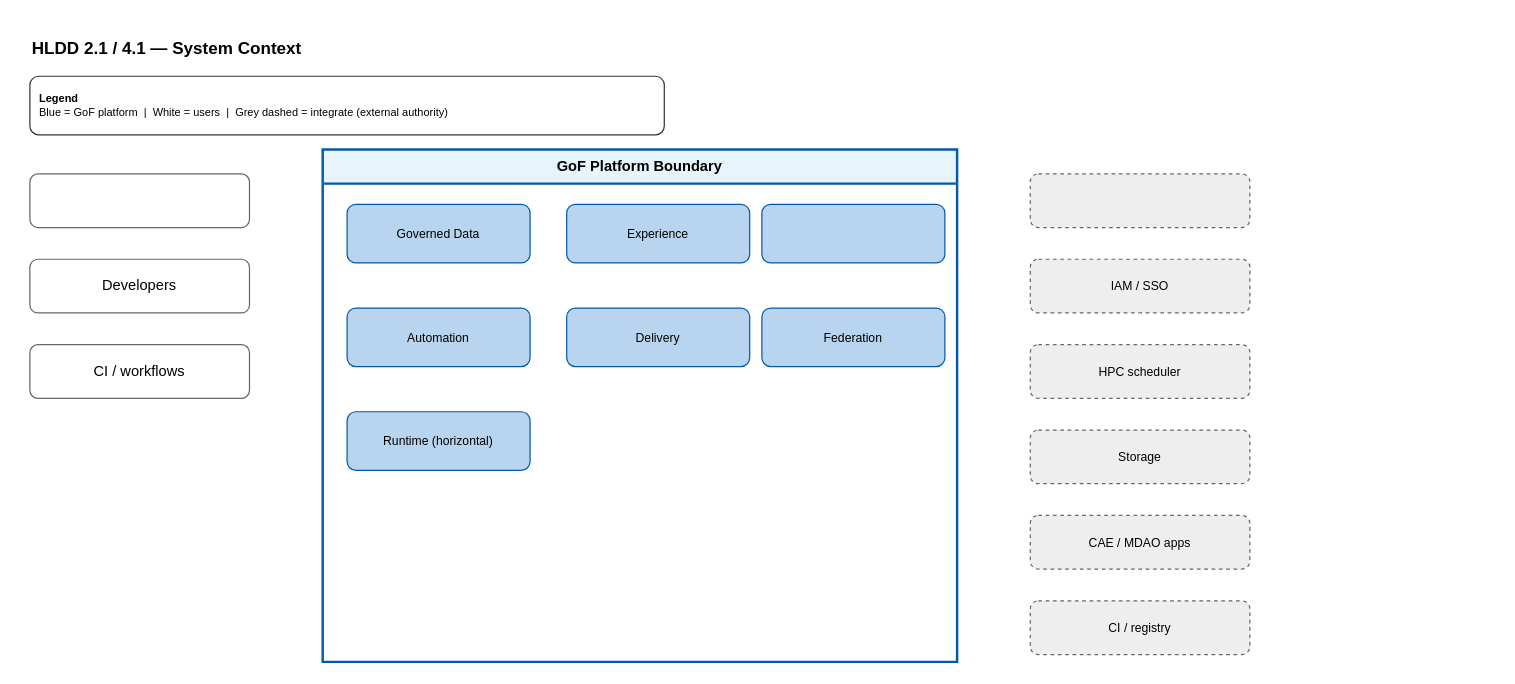
This 1515x684 diagram has some shape labels left out. Here are the shapes that lost their labels. From the top down, the centre of each, then its label:
At (139,200): "Engineers".
At (1139,200): "SPDM / PLM".
At (853,233): "Execution".
